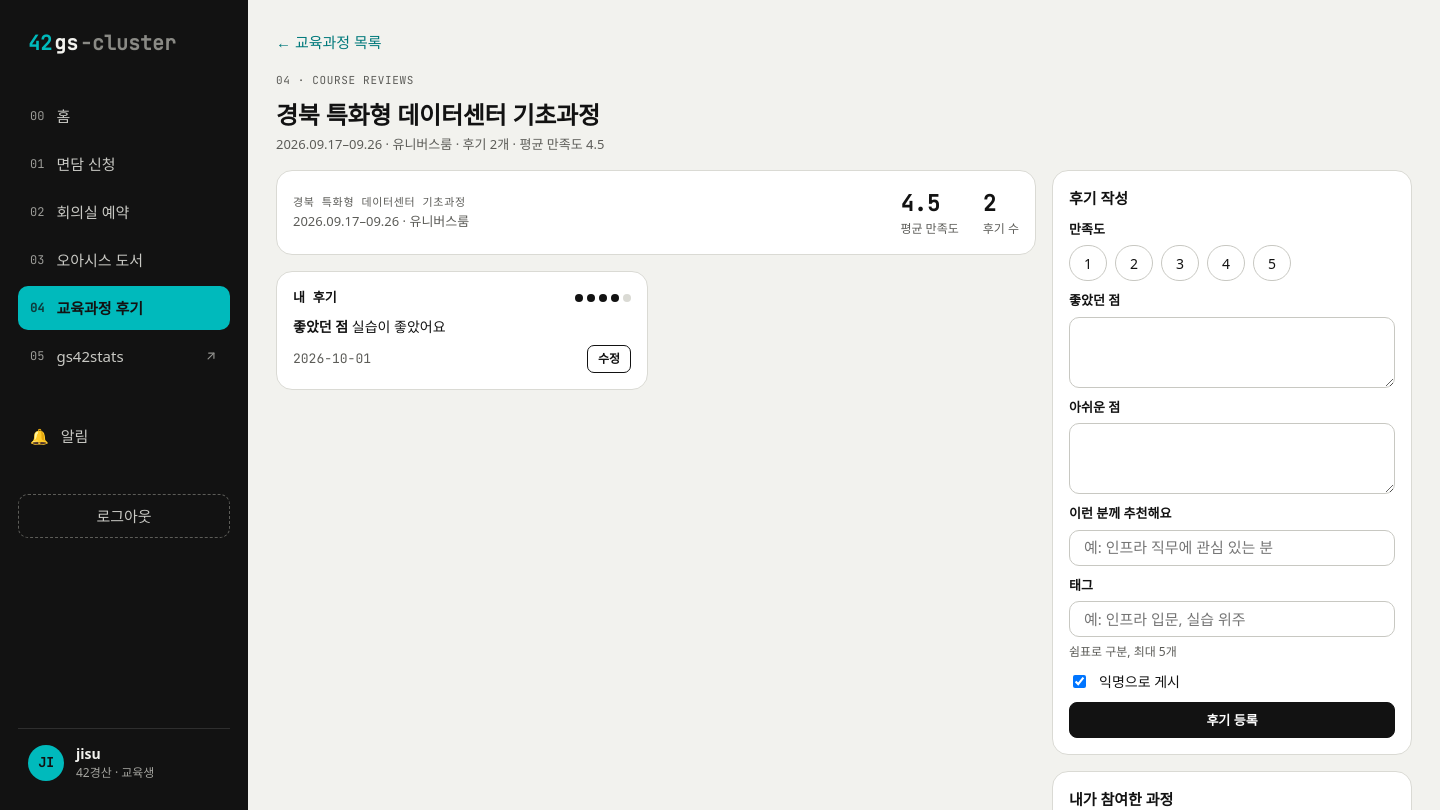
Test case: 교육과정 후기 게시판 › 수정이 거절되면(작성자 아님·마감) 안내 문구를 보여준다
The image size is (1440, 810).
Check: the heading "경북 특화형 데이터센터 기초과정" is shown, box [276,96,604,132]
What coordinates should you click on to do the following:
click the button with aria-label "내 후기 수정"
I would click on:
 (609, 358)
Its box is [587,344,631,372].
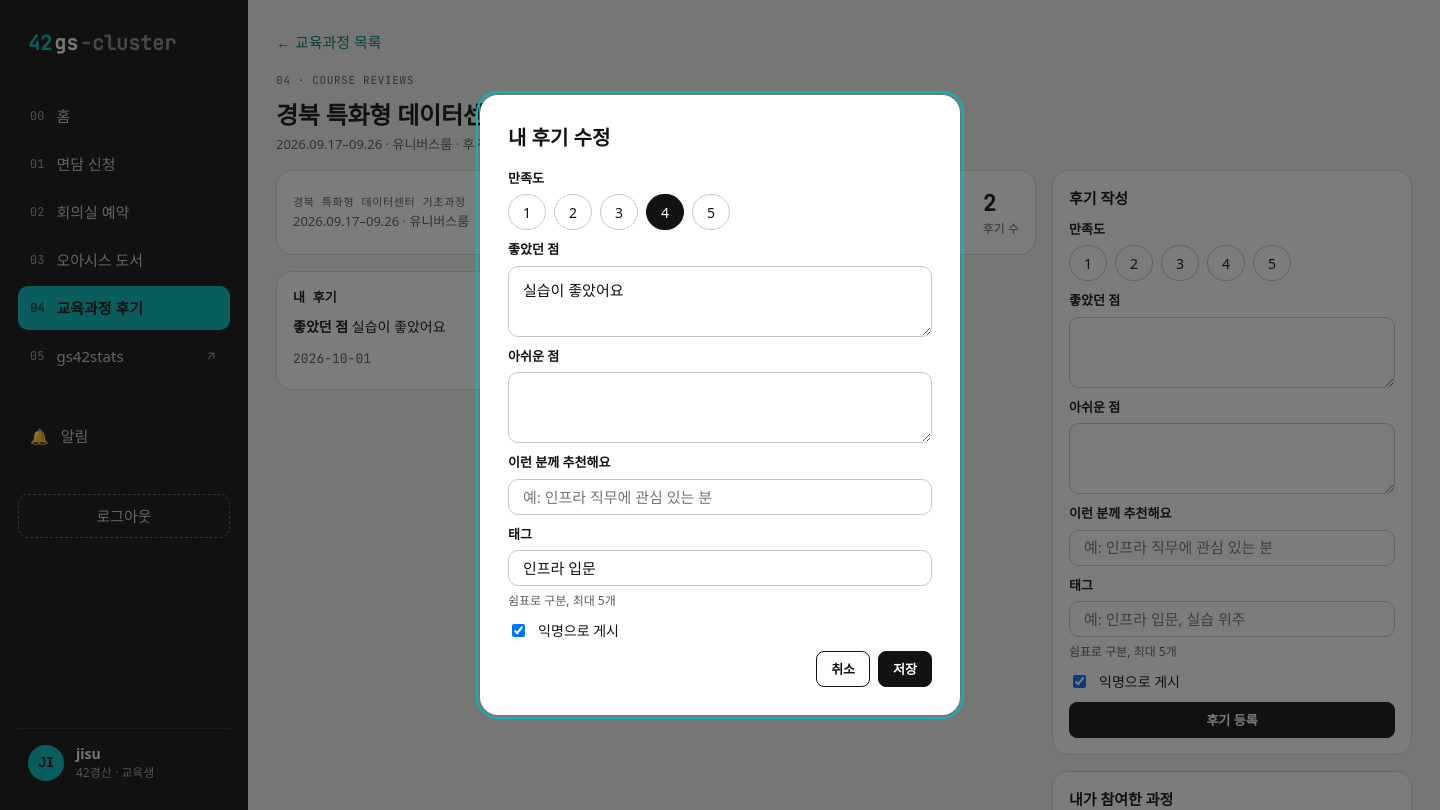
What coordinates should you click on to do the following:
click the button "저장"
I would click on:
 (905, 669)
Its box is [878,651,932,687].
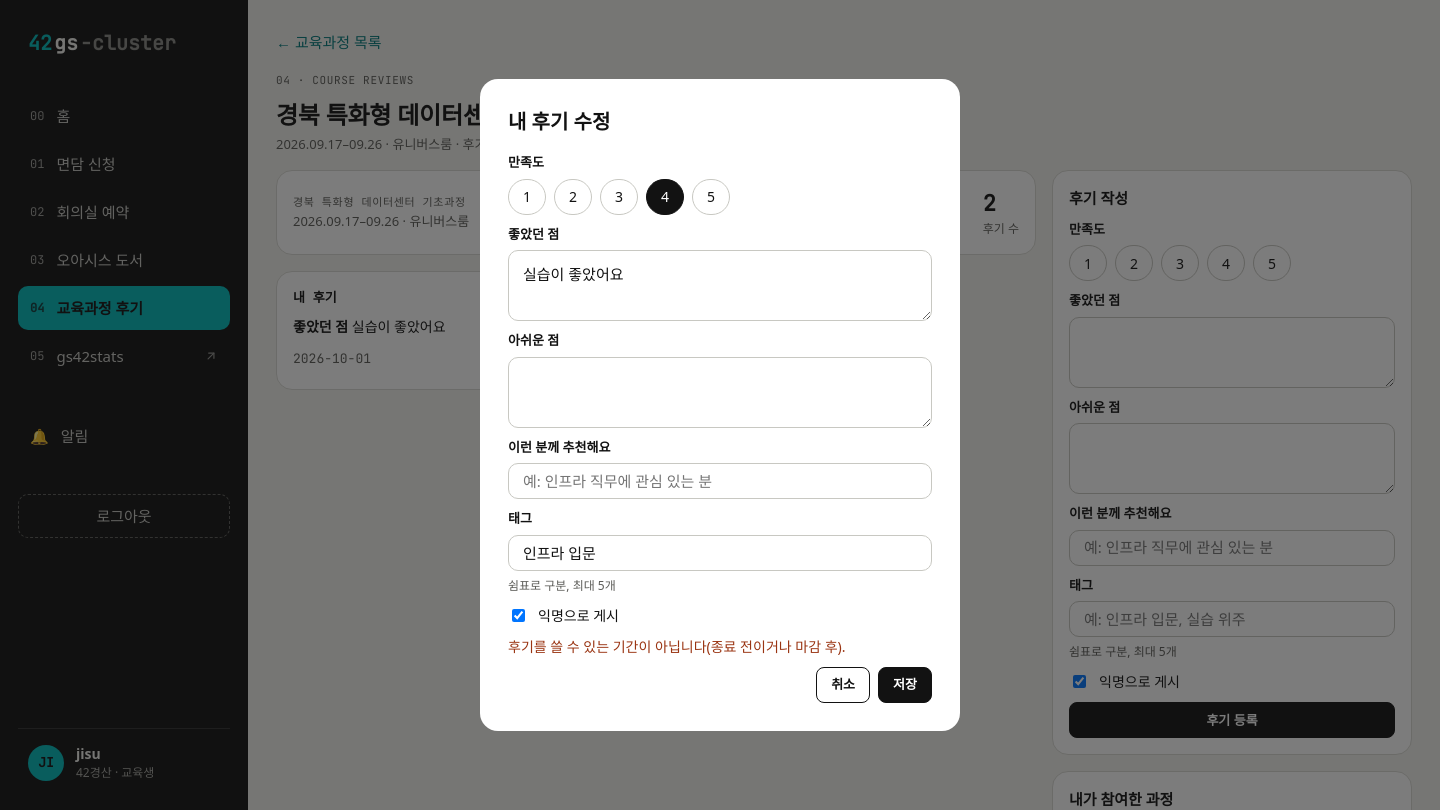
Check: the text "후기를 쓸 수 있는 기간이 아닙니다(종료 전이거나 마감 후)." is shown, box [508,637,846,656]
